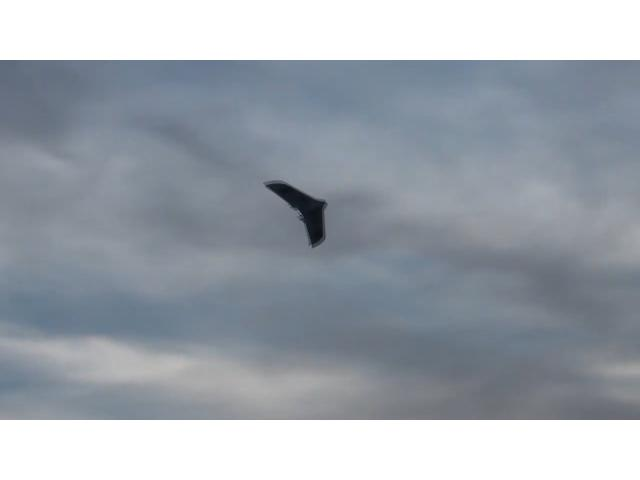Anti-Drone: (264, 182, 328, 248)
